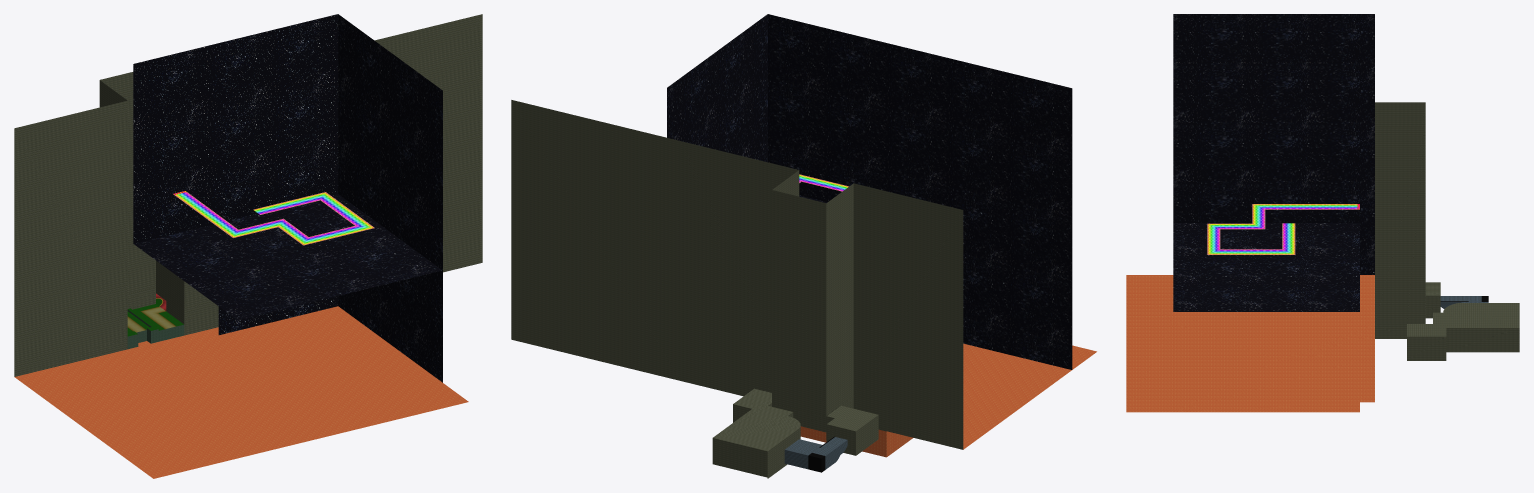
3 views of the same model, side by side, from view 1: azimuth 30°, elevation 25°; view 2: azimuth 150°, elevation 25°; view 3: azimuth 270°, elevation 25° (orthographic). The views are drawn at different scales.
Visible parts, largest first — view 1: course-SKP--Material8.006, course-SKP--Wall1.001, course-SKP--Material3.014, course-SKP--Material7.008, course-SKP--Material6.011, course-SKP--Offroad.005, course-SKP--Road1.005; view 2: course-SKP--Wall1.001, course-SKP--Material8.006, course-SKP--Material3.014, course-SKP--Wall2.001; view 3: course-SKP--Material8.006, course-SKP--Material3.014, course-SKP--Wall1.001, course-SKP--Material7.008.
Part boxes in pixels (<box>): course-SKP--Material8.006: <box>133,14,442,382</box>; course-SKP--Wall1.001: <box>14,14,482,376</box>; course-SKP--Material3.014: <box>14,306,468,478</box>; course-SKP--Material7.008: <box>174,192,374,245</box>; course-SKP--Material6.011: <box>127,324,184,349</box>; course-SKP--Offroad.005: <box>127,298,183,336</box>; course-SKP--Road1.005: <box>127,306,176,332</box>; course-SKP--Wall1.001: <box>511,100,963,478</box>; course-SKP--Material8.006: <box>667,14,1072,369</box>; course-SKP--Material3.014: <box>800,343,1096,457</box>; course-SKP--Wall2.001: <box>784,437,847,469</box>; course-SKP--Material8.006: <box>1173,14,1374,311</box>; course-SKP--Material3.014: <box>1126,275,1374,412</box>; course-SKP--Wall1.001: <box>1375,102,1519,360</box>; course-SKP--Material7.008: <box>1207,204,1357,254</box>.
Size of the model in its own units: 148115 by 96520 by 120604.
Materials: 16 (16 with a texture image).
